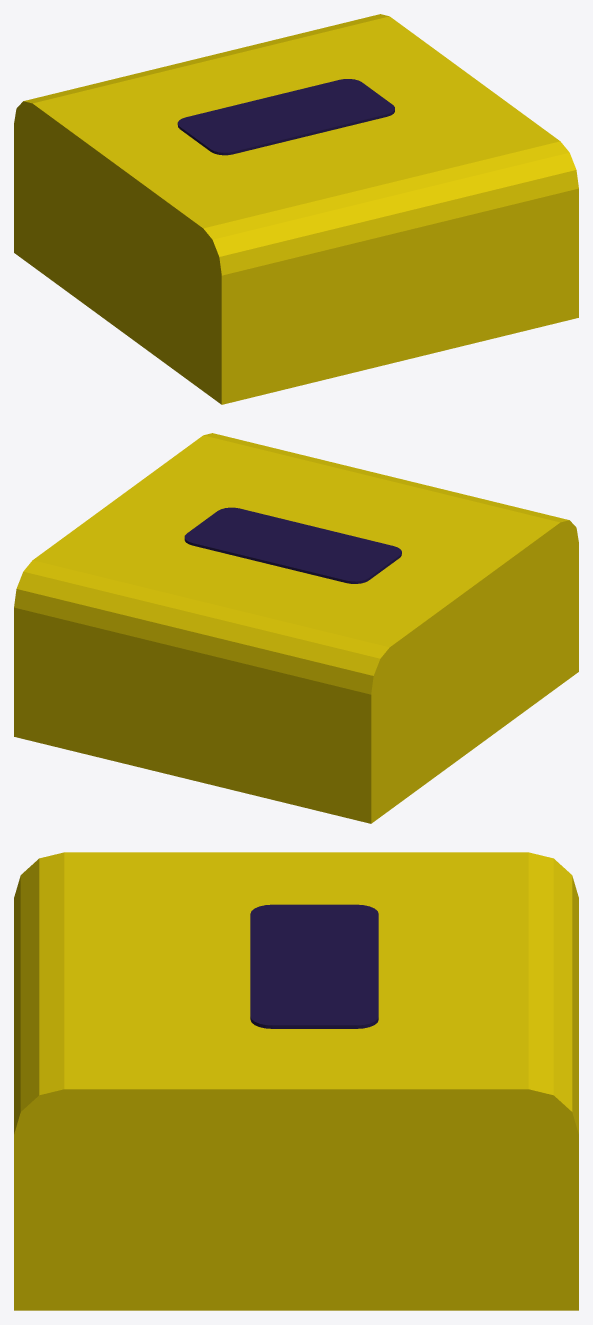
File: Camino2.fbx
3 views of the same model, one above another, from view 1: azimuth 30°, elevation 25°; view 2: azimuth 150°, elevation 25°; view 3: azimuth 270°, elevation 25° (orthographic). The views are drawn at different scales.
Parts seen in each view (by area): view 1: Cube, Cube.001; view 2: Cube, Cube.001; view 3: Cube, Cube.001.
Boxes of the visible parts, x1,y1,x2,y2 form: Cube: [14, 14, 578, 404]; Cube.001: [177, 79, 394, 155]; Cube: [14, 433, 578, 823]; Cube.001: [184, 507, 401, 583]; Cube: [14, 852, 578, 1310]; Cube.001: [250, 904, 378, 1028].
Bounding box in the file's own units: 198 × 87.84 × 200.
